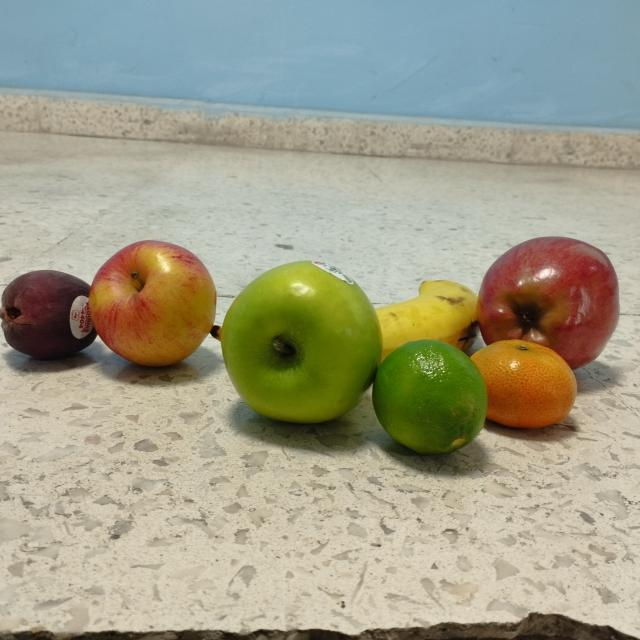Apel Gala: (93, 227, 222, 391)
Apel Granny Smith: (220, 256, 382, 434)
Apel Merah: (475, 228, 627, 378)
Jeruk Mandarin: (462, 332, 592, 444)
Lemon: (368, 338, 493, 466)
Pisang: (207, 252, 498, 384)
